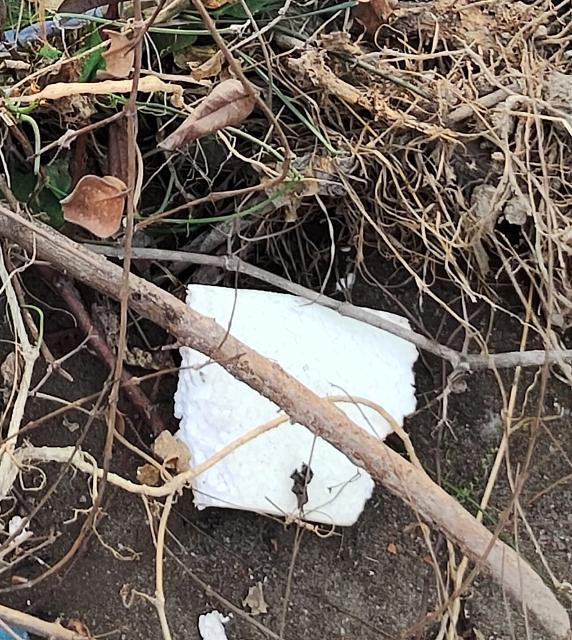cocksheet: (185, 285, 440, 533)
